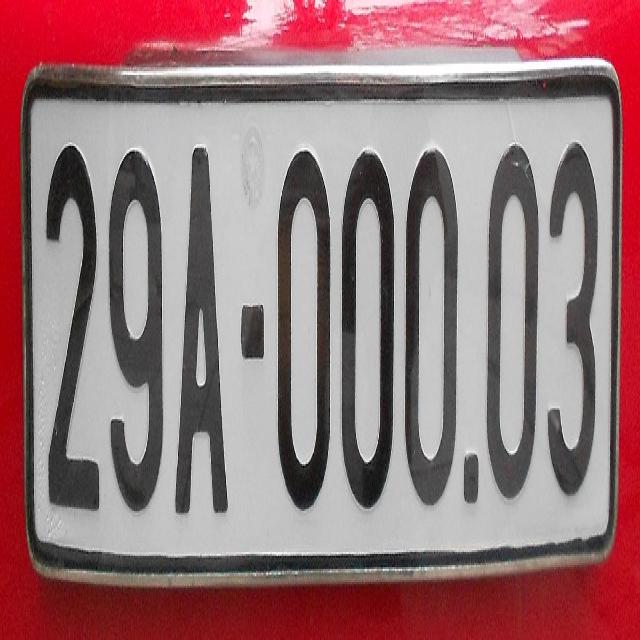placa: (34, 112, 462, 529)
